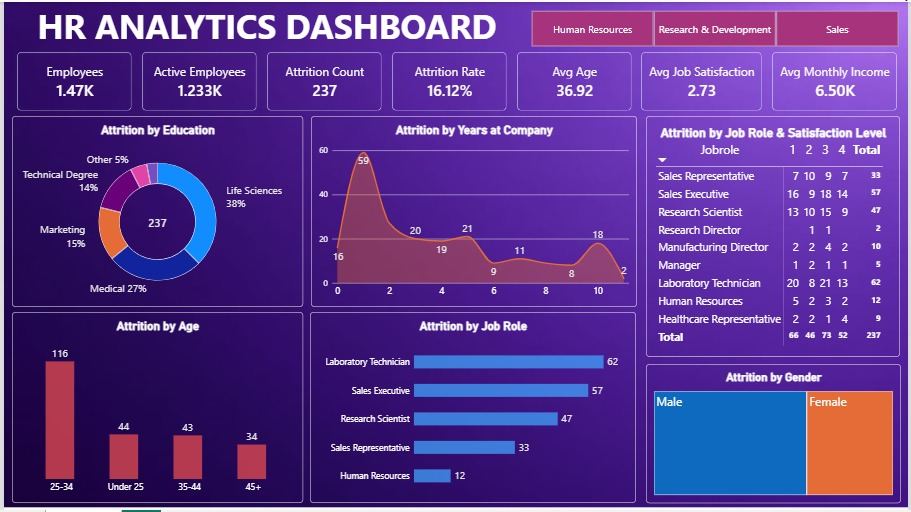

The dashboard page shown, as its layout file describes it:
{"tool":"powerbi","page":{"name":"Page 1","canvas":[1920,1080],"ordinal":0},"visuals":[{"type":"cardVisual","fields":{"Data":["public hr_attrition.Employees"]},"box":[17,95.7,265,146.7],"z":9},{"type":"cardVisual","fields":{"Data":["public hr_attrition.Active Employees"]},"box":[282.8,95.7,265,146.7],"z":10},{"type":"cardVisual","fields":{"Data":["public hr_attrition.Attrition Count"]},"box":[548.5,95.7,265,146.7],"z":11},{"type":"cardVisual","fields":{"Data":["public hr_attrition.Attrition Rate"]},"box":[814.3,95.7,265,146.7],"z":12},{"type":"cardVisual","fields":{"Data":["public hr_attrition.Avg Age"]},"box":[1080,95.7,265,146.7],"z":13},{"type":"cardVisual","fields":{"Data":["public hr_attrition.Avg Job Satisfaction"]},"box":[1343.6,95.7,278,146.7],"z":14},{"type":"cardVisual","fields":{"Data":["public hr_attrition.Avg Monthly Income"]},"box":[1622.1,95.7,287,146.7],"z":15},{"type":"donutChart","title":"Attrition by Education","fields":{"Category":["public hr_attrition.educationfield"],"Y":["public hr_attrition.Attrition Count"]},"box":[17,242.4,618.7,406.1],"z":17},{"type":"clusteredColumnChart","title":"Attrition by Age","fields":{"Category":["public hr_attrition.agegroup"],"Y":["public hr_attrition.Attrition Count"]},"box":[17,659.1,618.7,406.1],"z":18},{"type":"pivotTable","title":"Attrition by Job Role & Satisfaction Level","fields":{"Columns":["public hr_attrition.jobsatisfaction"],"Rows":["public hr_attrition.jobrole"],"Values":["public hr_attrition.Attrition Count"]},"box":[1364.9,242.4,540,512.4],"z":19},{"type":"clusteredBarChart","title":"Attrition by Job Role","fields":{"Category":["public hr_attrition.jobrole"],"Y":["public hr_attrition.Attrition Count"]},"box":[650.6,659.1,693.1,406.1],"z":24},{"type":"areaChart","title":"Attrition by Years at Company","fields":{"Category":["public hr_attrition.yearsatcompany"],"Y":["public hr_attrition.Attrition Count"]},"box":[652.7,242.4,693.1,406.1],"z":25},{"type":"treemap","title":"Attrition by Gender","fields":{"Group":["public hr_attrition.gender"],"Values":["public hr_attrition.Attrition Count"]},"box":[1364.9,769.6,542.1,295.5],"z":26},{"type":"slicer","fields":{"Values":["public hr_attrition.department"]},"box":[1101.3,17,818.5,78.7],"z":27},{"type":"textbox","box":[17,0,1084.3,110.6],"z":28}]}

Visuals, with their boxes in screenshot pixels (x1, y1, x2, y2), scaled from the page's 1920x1080 canvas onto the 911x512 screenshot:
cardVisual - public hr_attrition.Employees: bbox(8, 45, 134, 115)
cardVisual - public hr_attrition.Active Employees: bbox(134, 45, 260, 115)
cardVisual - public hr_attrition.Attrition Count: bbox(260, 45, 386, 115)
cardVisual - public hr_attrition.Attrition Rate: bbox(386, 45, 512, 115)
cardVisual - public hr_attrition.Avg Age: bbox(512, 45, 638, 115)
cardVisual - public hr_attrition.Avg Job Satisfaction: bbox(638, 45, 769, 115)
cardVisual - public hr_attrition.Avg Monthly Income: bbox(770, 45, 906, 115)
"Attrition by Education" donutChart: bbox(8, 115, 302, 307)
"Attrition by Age" clusteredColumnChart: bbox(8, 312, 302, 505)
"Attrition by Job Role & Satisfaction Level" pivotTable: bbox(648, 115, 904, 358)
"Attrition by Job Role" clusteredBarChart: bbox(309, 312, 638, 505)
"Attrition by Years at Company" areaChart: bbox(310, 115, 639, 307)
"Attrition by Gender" treemap: bbox(648, 365, 905, 505)
slicer - public hr_attrition.department: bbox(523, 8, 910, 45)
textbox: bbox(8, 0, 523, 52)
